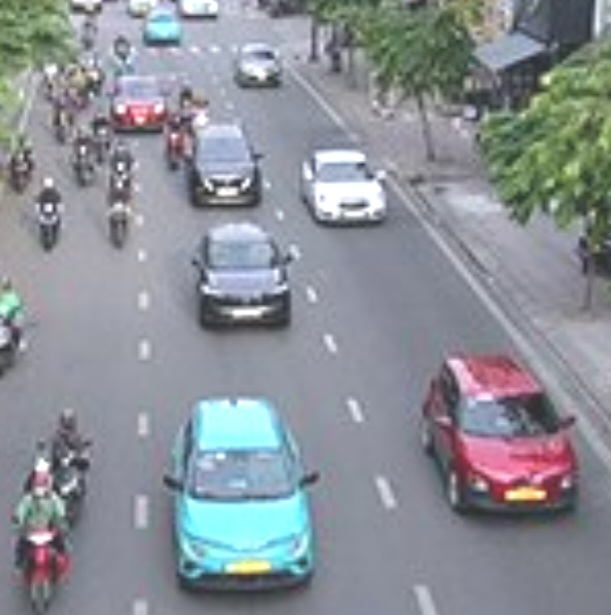car: (171, 394, 317, 592), (422, 351, 578, 517), (196, 224, 293, 331), (303, 148, 389, 226), (189, 127, 263, 209), (111, 75, 168, 133), (237, 43, 284, 88)
